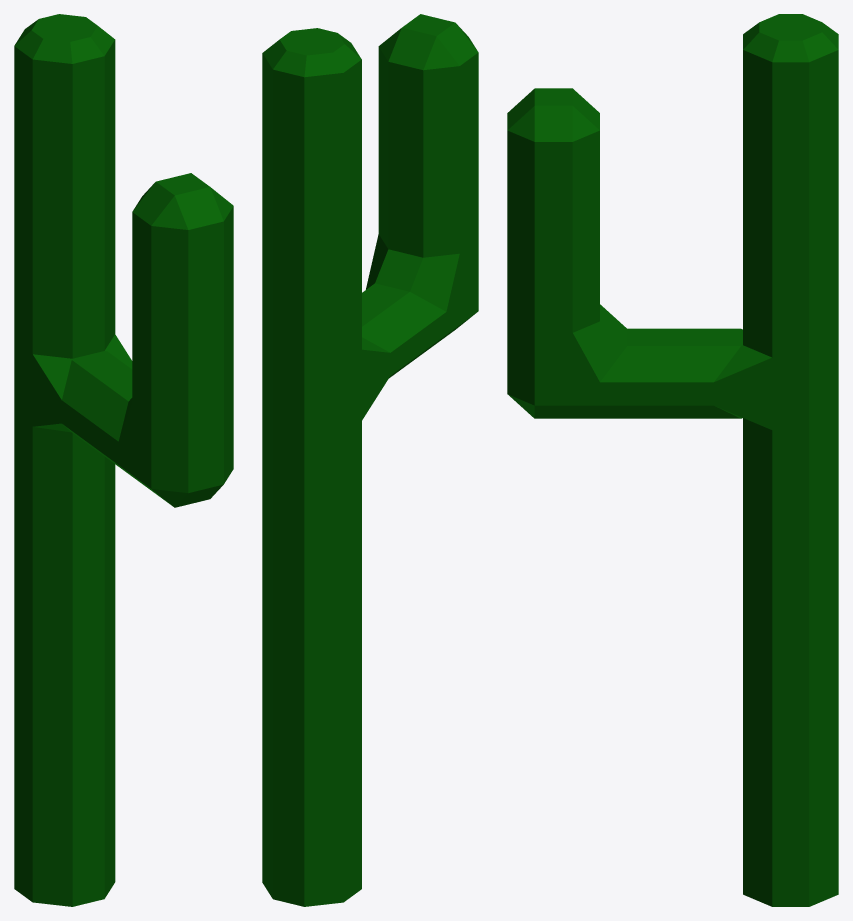
File: Cactus_1.fbx
The picture shows the model from 3 angles, left to right: view 1: azimuth 30°, elevation 25°; view 2: azimuth 150°, elevation 25°; view 3: azimuth 270°, elevation 25°; orthographic projection.
Visible parts, largest first — view 1: Cube; view 2: Cube; view 3: Cube.
Part boxes in pixels (box(x1,y1,x2,y2)): Cube: box(14, 14, 233, 906); Cube: box(262, 14, 478, 906); Cube: box(507, 14, 838, 906).
Size of the model in its own units: 200 by 1986 by 694.
